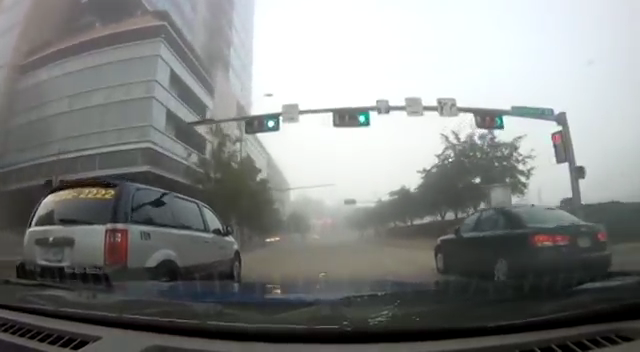car: (16, 180, 242, 295), (433, 204, 613, 282)
